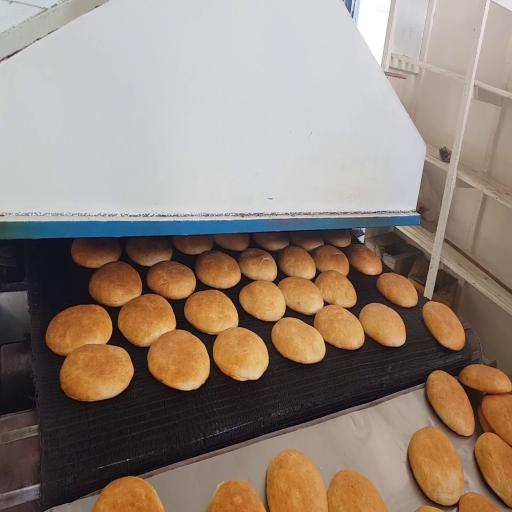bread: (408, 427, 464, 505), (60, 345, 134, 401), (148, 330, 209, 391), (267, 450, 328, 511), (46, 305, 112, 356), (426, 371, 474, 436), (118, 294, 176, 347), (213, 328, 268, 381), (475, 433, 511, 507), (328, 470, 387, 511), (93, 477, 164, 511), (89, 262, 142, 307), (272, 318, 325, 363), (184, 290, 238, 334), (314, 305, 364, 349), (359, 303, 405, 347), (423, 302, 465, 350), (239, 281, 286, 321), (147, 261, 196, 299), (208, 480, 265, 511), (196, 251, 241, 289), (278, 277, 323, 315), (481, 394, 511, 446), (459, 365, 511, 394), (71, 238, 121, 268), (315, 271, 356, 307), (377, 273, 417, 307), (126, 237, 172, 266), (238, 248, 277, 281), (279, 246, 316, 279), (348, 244, 382, 275), (313, 246, 349, 275), (172, 235, 213, 255), (459, 493, 499, 511), (253, 232, 289, 251), (289, 232, 323, 251), (214, 234, 249, 251), (321, 230, 351, 247), (478, 405, 493, 432), (416, 506, 442, 511)
